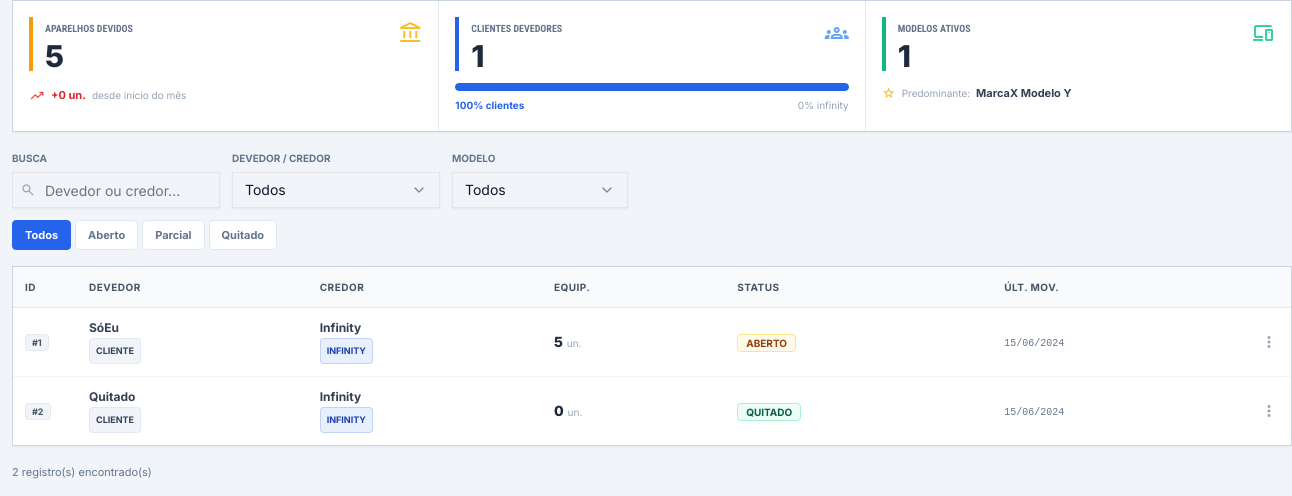
Test case: DebitosEquipamentosPage (integração) › limpa filtros volta contagem total
The image size is (1292, 496).
Expected: the text "2 registro(s) encontrado(s)" is shown, [12,465,152,479]
Click the button "Quitado" at {"x": 243, "y": 235}, box [208,220,277,250]
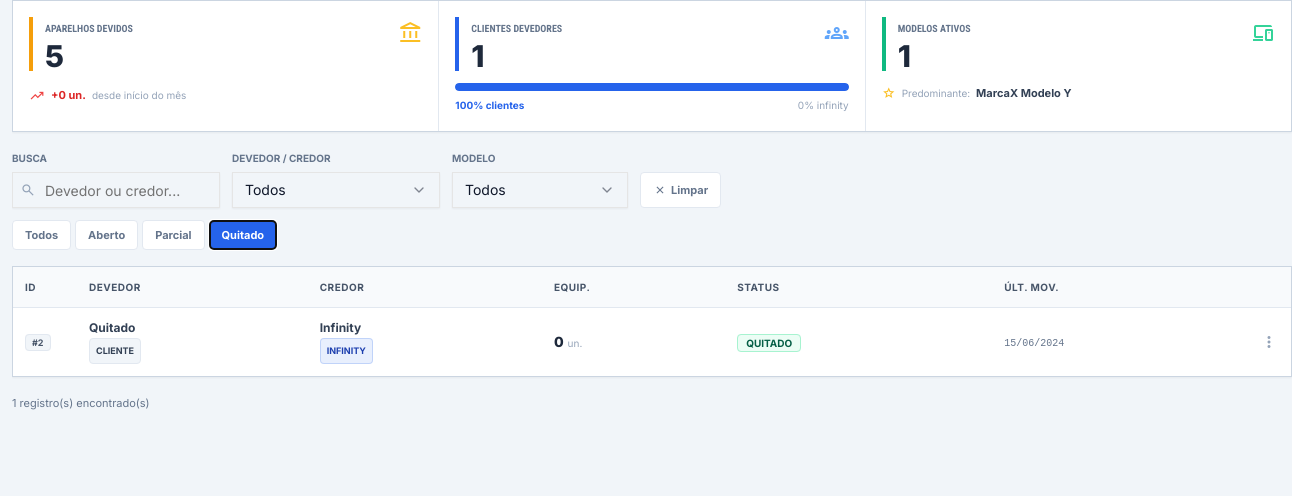
Result: the text "1 registro(s) encontrado(s)" is shown at [12,396,150,410]
Click the button "Limpar" at {"x": 681, "y": 190}, box [640,172,721,208]
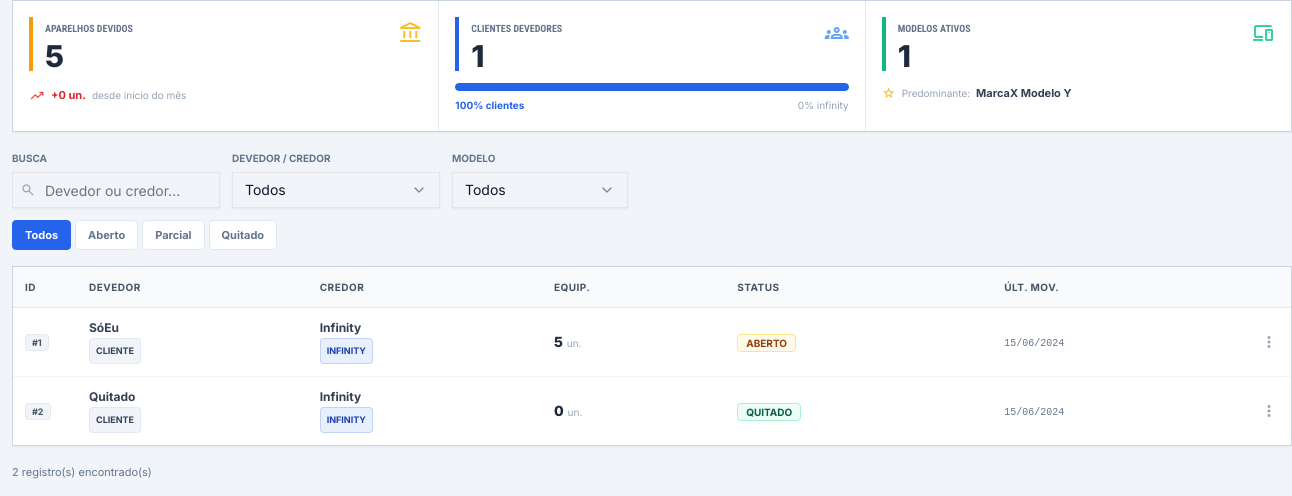
Result: the text "2 registro(s) encontrado(s)" is shown at [12,465,152,479]
